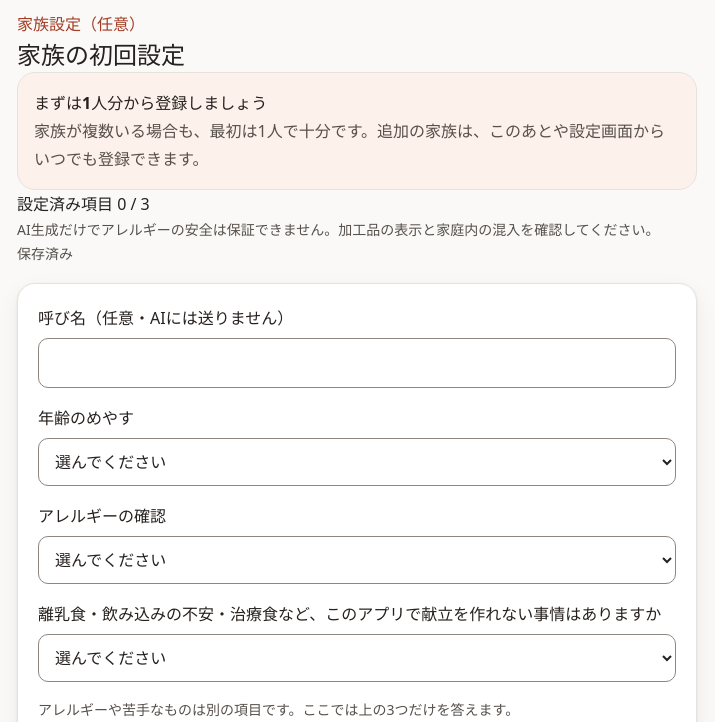
retries unsaved fields with a later queued save after an earlier save fails
Select "大人" in the dropdown labelled "年齢のめやす" at (357, 462), box [38, 438, 676, 486]
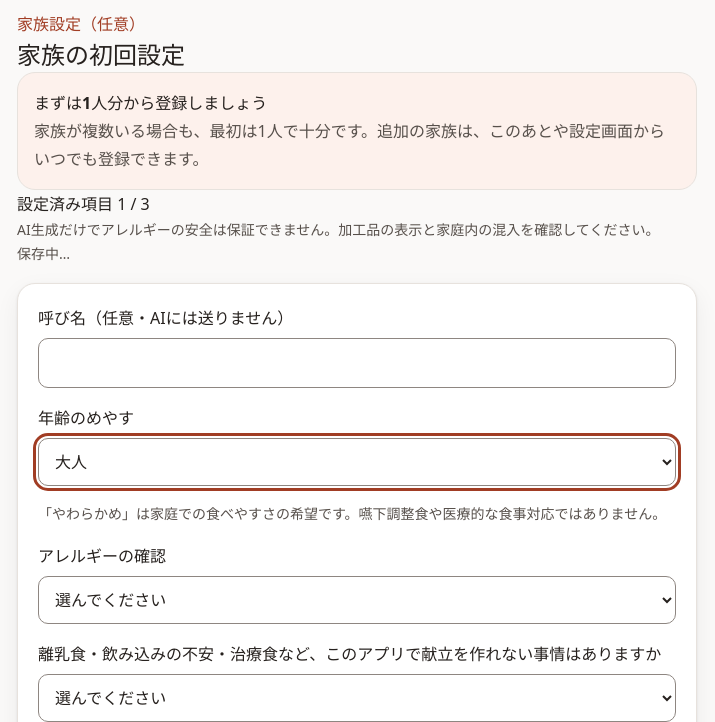
Select "なし" in the dropdown labelled "アレルギーの確認" at (357, 600), box [38, 576, 676, 624]
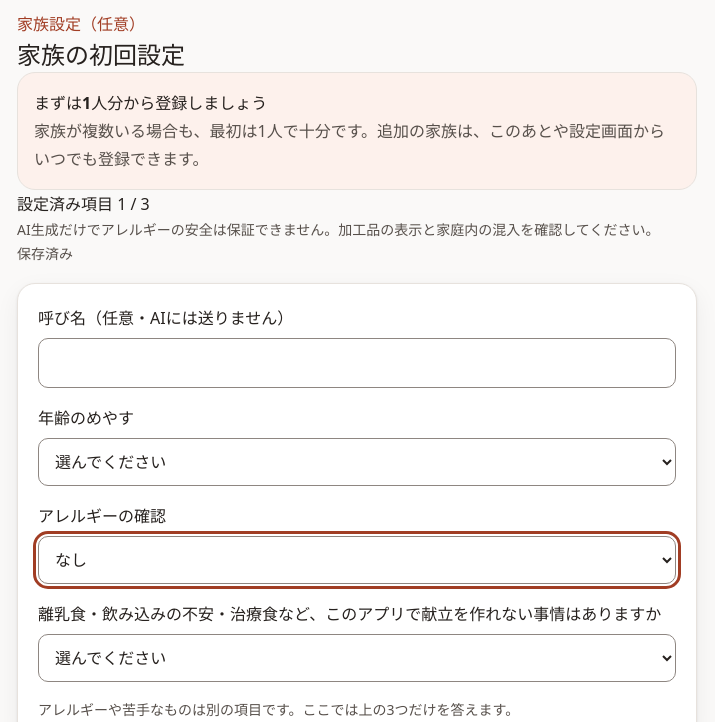
Check: the text "保存済み" is shown, box [17, 244, 73, 263]
